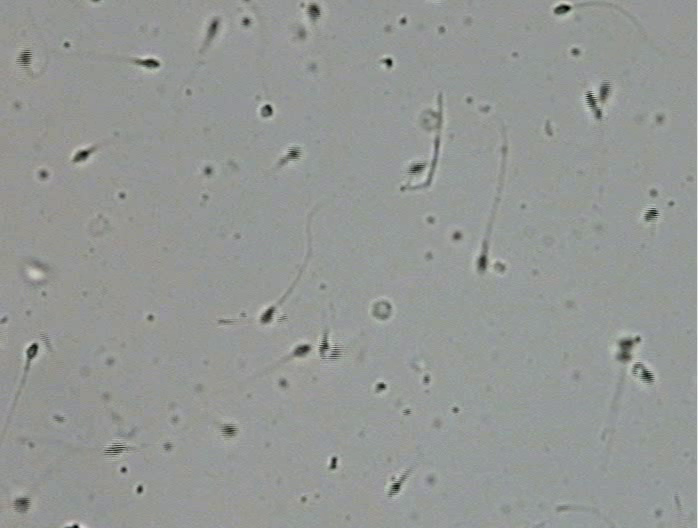Impurity: (372, 299, 392, 319)
S: (584, 90, 603, 120), (617, 338, 633, 362), (104, 442, 127, 456), (16, 49, 32, 69), (12, 497, 30, 514), (219, 423, 238, 438), (387, 478, 402, 497), (640, 367, 655, 385), (318, 339, 330, 361), (306, 3, 321, 20), (260, 306, 274, 324), (286, 146, 302, 161), (644, 207, 660, 222), (407, 162, 425, 175), (139, 58, 160, 69), (330, 343, 342, 362), (294, 344, 311, 357), (477, 253, 488, 272), (207, 19, 218, 37), (73, 150, 89, 162), (26, 343, 38, 359), (554, 4, 571, 15), (599, 83, 608, 102), (260, 104, 273, 117)
